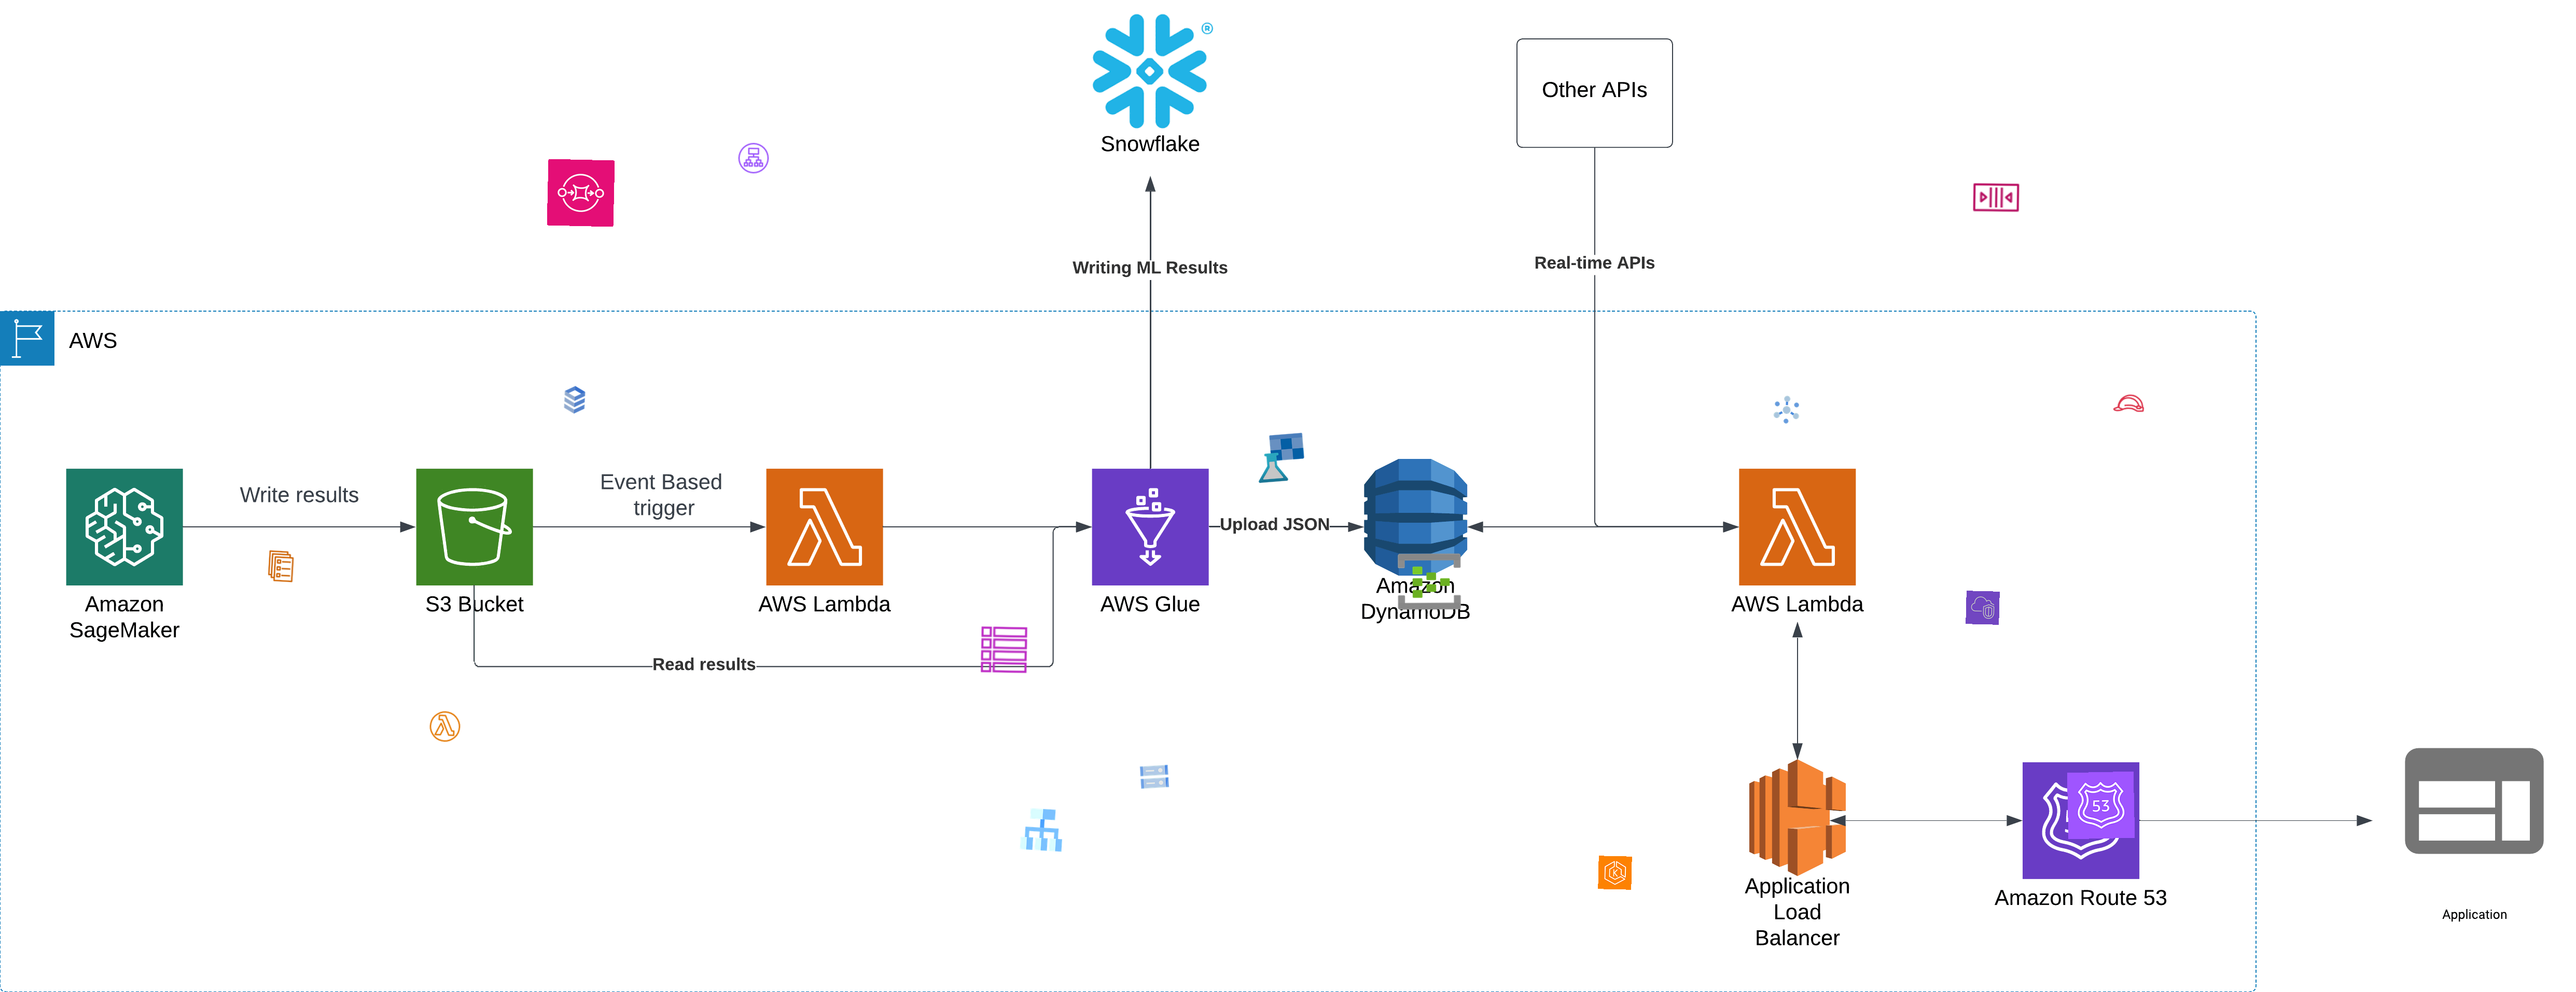aws_amazon_elastic_kubernetes_service: (1599, 856, 1631, 890)
aws_amazon_route_53: (2067, 770, 2136, 839)
aws_amazon_simple_queue_service: (547, 159, 614, 227)
aws_amazon_virtual_private_cloud: (1965, 591, 1999, 624)
aws_dynamodb_table: (979, 624, 1030, 675)
aws_elastic_container_service_service: (263, 549, 299, 585)
aws_elastic_load_balancing_application_load_balancer: (736, 141, 771, 176)
aws_identity_access_management_role: (2111, 386, 2147, 422)
aws_lambda_lambda_function: (427, 710, 463, 744)
aws_simple_queue_service_queue: (1971, 172, 2022, 222)
azure_event_hubs: (1396, 547, 1464, 614)
azure_machine_learning_studio_workspaces: (1253, 430, 1308, 485)
gcp_cloud_load_balancing: (1015, 803, 1068, 856)
gcp_cloud_sql: (557, 383, 593, 417)
gcp_cloud_storage: (1137, 759, 1171, 795)
gcp_pubsub: (1769, 393, 1804, 427)
